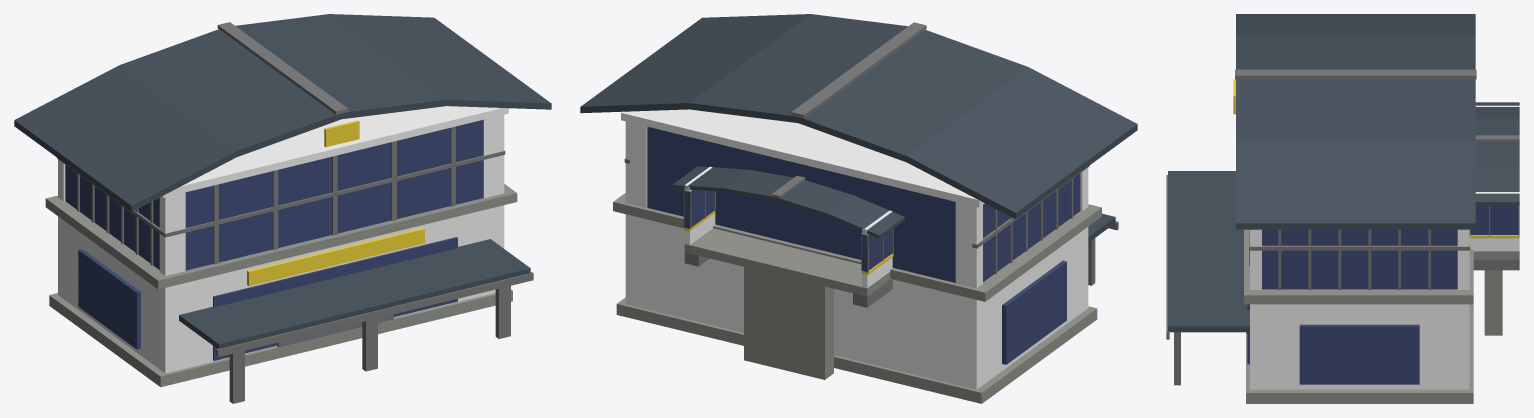
File: body.fbx
The picture shows the model from 3 angles, left to right: view 1: azimuth 30°, elevation 25°; view 2: azimuth 150°, elevation 25°; view 3: azimuth 270°, elevation 25°; orthographic projection. The views are drawn at different scales.
Visible parts, largest first — view 1: p2011.house; view 2: p2011.house; view 3: p2011.house.
Part boxes in pixels (x1,y1,x2,y2): p2011.house: (14, 14, 551, 403); p2011.house: (580, 14, 1137, 403); p2011.house: (1166, 14, 1519, 403).
Size of the model in its own units: 24.8 by 13.44 by 17.68.
